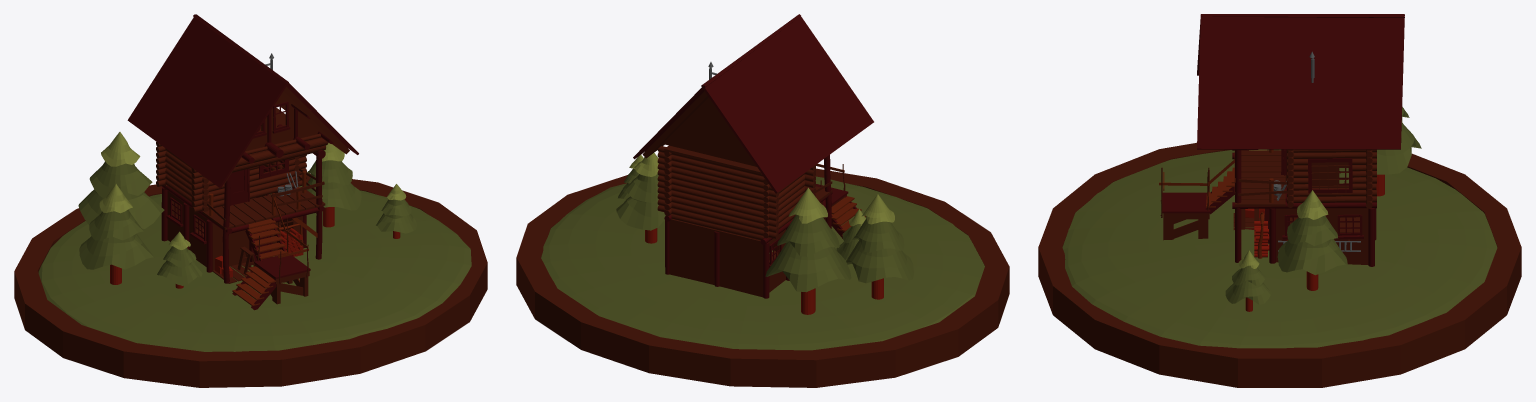
The model's file is logcabin.fbx.
The picture shows the model from 3 angles, left to right: view 1: azimuth 30°, elevation 25°; view 2: azimuth 150°, elevation 25°; view 3: azimuth 270°, elevation 25°; orthographic projection. The views are drawn at different scales.
Parts seen in each view (by area): view 1: Sphere001, Tube001, Box059, Cylinder042, Cone003, Cone008, Cone007, Cone002, Pyramid001, Box049, Cone010, Box035 (+15 smaller); view 2: Sphere001, Tube001, Box059, Box036, Pyramid002, Cone007, Cone003, Cone008, Cone002, Cone010, Box058, Cone009 (+16 smaller); view 3: Sphere001, Tube001, Box058, Cylinder028, Cone010, Box037, Cone011, Cone007, Box002, Box059, Box035, Cone013 (+6 smaller).
Boxes of the visible parts, bbox=[...] form: Sphere001: bbox=[38, 186, 471, 351]; Tube001: bbox=[14, 173, 487, 387]; Box059: bbox=[127, 14, 288, 188]; Cylinder042: bbox=[191, 154, 306, 212]; Cone003: bbox=[79, 233, 153, 269]; Cone008: bbox=[89, 161, 152, 198]; Cone007: bbox=[78, 189, 164, 228]; Cone002: bbox=[89, 209, 143, 240]; Pyramid001: bbox=[245, 94, 318, 150]; Box049: bbox=[212, 216, 302, 270]; Cone010: bbox=[306, 178, 361, 210]; Box035: bbox=[167, 191, 207, 266]; Sphere001: bbox=[541, 176, 984, 350]; Tube001: bbox=[516, 168, 1009, 387]; Box059: bbox=[701, 14, 873, 193]; Box036: bbox=[669, 219, 763, 297]; Pyramid002: bbox=[663, 97, 756, 166]; Cone007: bbox=[765, 241, 851, 292]; Cone003: bbox=[846, 240, 913, 283]; Cone008: bbox=[777, 215, 839, 256]; Cone002: bbox=[852, 218, 904, 252]; Cone010: bbox=[616, 196, 665, 230]; Box058: bbox=[633, 14, 800, 159]; Cone009: bbox=[788, 187, 827, 223]; Sphere001: bbox=[1062, 149, 1497, 348]; Tube001: bbox=[1038, 142, 1521, 387]; Box058: bbox=[1197, 14, 1404, 149]; Cylinder028: bbox=[1287, 149, 1376, 202]; Cone010: bbox=[1277, 239, 1347, 275]; Box037: bbox=[1276, 208, 1368, 264]; Cone011: bbox=[1287, 215, 1337, 245]; Cone007: bbox=[1377, 123, 1421, 174]; Box002: bbox=[1162, 192, 1210, 213]; Box059: bbox=[1197, 14, 1404, 75]; Box035: bbox=[1285, 162, 1348, 187]; Cone013: bbox=[1225, 281, 1271, 304].
Bounding box in the file's own units: 53208 × 29282 × 48773.
